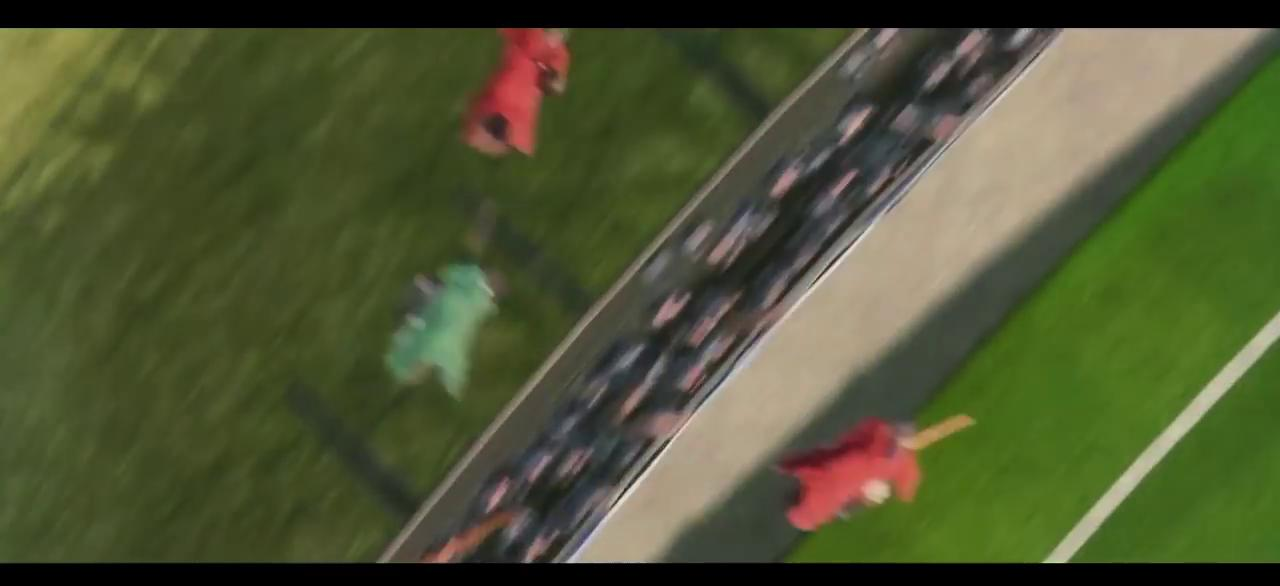quaffle: (539, 66, 568, 96)
